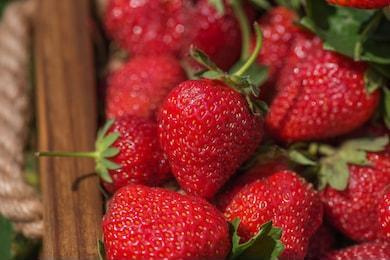Fresa: (154, 72, 268, 207), (267, 42, 386, 151), (218, 154, 332, 260), (100, 180, 239, 260), (316, 139, 390, 244), (94, 109, 178, 197)
